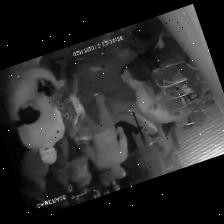person: (2, 56, 64, 125), (121, 68, 186, 124), (86, 92, 128, 178), (17, 92, 64, 163), (54, 58, 91, 143), (133, 133, 166, 180), (20, 146, 48, 196), (66, 134, 91, 188), (50, 135, 72, 191), (99, 168, 120, 191)
